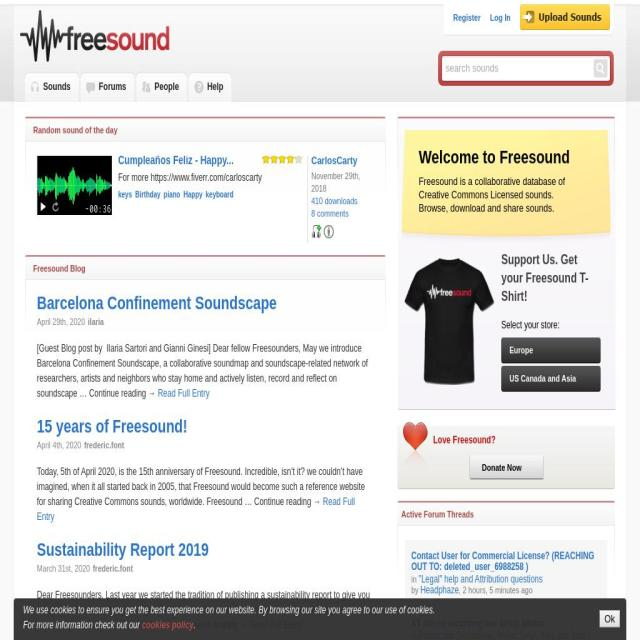button: (411, 551, 601, 572), (501, 366, 601, 392), (501, 338, 601, 363), (469, 455, 547, 480), (411, 618, 545, 630), (28, 72, 79, 102), (84, 72, 135, 102), (140, 72, 188, 102), (192, 72, 232, 102), (452, 4, 480, 31), (490, 4, 511, 31), (599, 610, 620, 628), (206, 190, 236, 200), (135, 190, 163, 200), (49, 198, 62, 215), (183, 190, 205, 200), (37, 198, 49, 215), (163, 190, 183, 200), (311, 225, 321, 242), (118, 190, 134, 200)
field: (442, 57, 590, 79), (594, 59, 608, 78)
heading: (398, 251, 598, 306), (33, 256, 374, 281), (33, 118, 374, 142), (37, 292, 277, 314), (402, 502, 608, 526), (37, 539, 209, 560), (418, 148, 594, 167), (37, 416, 187, 436)
image: (398, 250, 502, 389), (20, 10, 169, 62), (37, 156, 112, 215), (520, 4, 610, 30), (141, 80, 152, 93), (30, 80, 40, 93), (86, 80, 96, 93), (194, 80, 204, 93), (311, 225, 321, 238), (324, 225, 334, 238)
link: (37, 496, 354, 522), (418, 630, 591, 640), (418, 573, 543, 585), (118, 154, 234, 166), (249, 619, 302, 631), (142, 619, 194, 631), (312, 154, 358, 167), (158, 388, 210, 399), (420, 584, 459, 596), (312, 196, 358, 206), (311, 208, 349, 218)
text: (37, 343, 368, 399), (37, 589, 370, 631), (37, 466, 365, 507), (419, 175, 581, 215), (23, 604, 435, 616), (398, 319, 616, 331), (118, 171, 301, 184), (23, 619, 142, 631), (311, 171, 360, 193), (433, 434, 496, 446), (459, 585, 533, 595), (37, 564, 90, 574), (37, 316, 85, 326), (37, 440, 81, 450), (92, 564, 134, 574), (84, 440, 125, 450), (262, 153, 296, 165), (43, 81, 71, 92), (99, 81, 126, 92), (154, 81, 180, 92), (85, 203, 111, 214), (207, 81, 224, 92), (88, 316, 104, 326), (411, 585, 421, 595), (411, 574, 419, 584), (411, 631, 419, 640), (193, 619, 196, 631)
